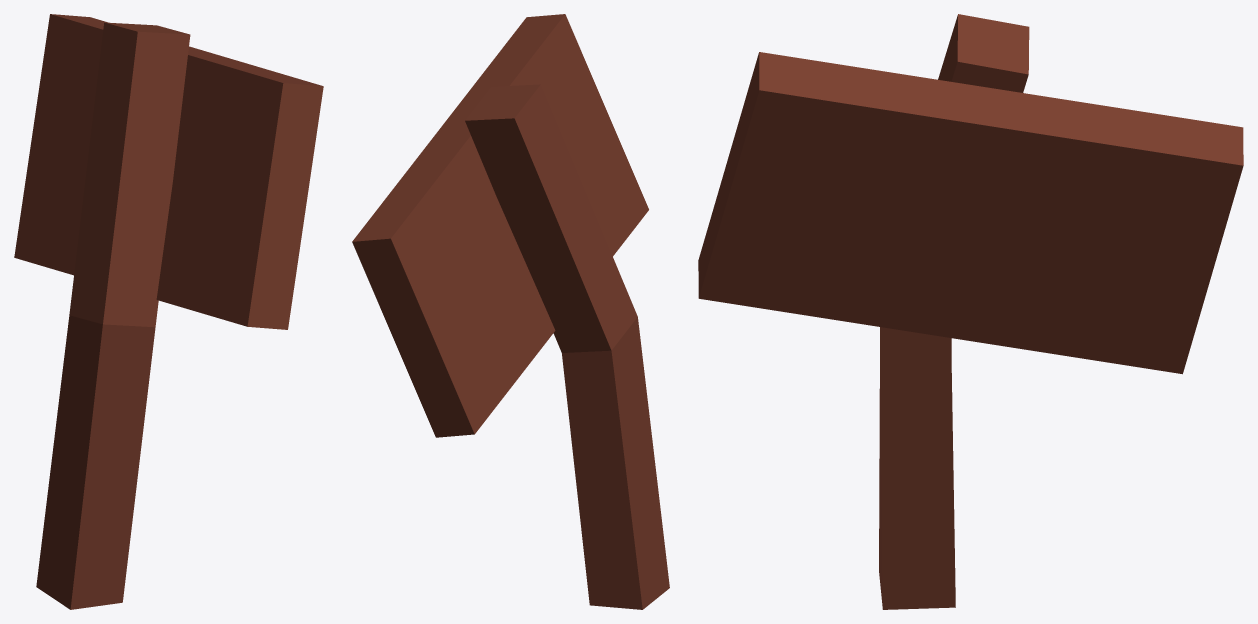
Rendered from lib_brokendoor_sign.fbx.
3 views of the same model, side by side, from view 1: azimuth 30°, elevation 25°; view 2: azimuth 150°, elevation 25°; view 3: azimuth 270°, elevation 25° (orthographic). The views are drawn at different scales.
Parts seen in each view (by area): view 1: Plane.001; view 2: Plane.001; view 3: Plane.001.
Boxes of the visible parts, x1=… form: Plane.001: x1=14, y1=14, x2=323, y2=609; Plane.001: x1=352, y1=14, x2=669, y2=609; Plane.001: x1=698, y1=14, x2=1243, y2=609.
Bounding box in the file's own units: 110 × 276 × 219.
